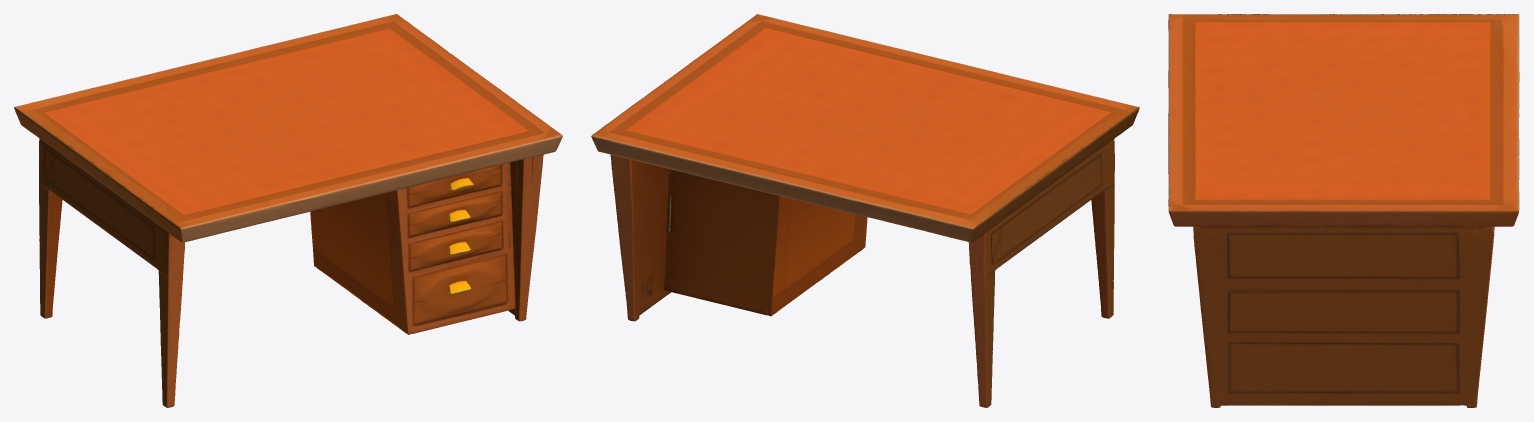
Rendered from tableWood.glb.
The picture shows the model from 3 angles, left to right: view 1: azimuth 30°, elevation 25°; view 2: azimuth 150°, elevation 25°; view 3: azimuth 270°, elevation 25°; orthographic projection. The views are drawn at different scales.
Bounding box in the file's own units: 1.9 × 0.9346 × 1.44.
Materials: 1 (1 with a texture image).
